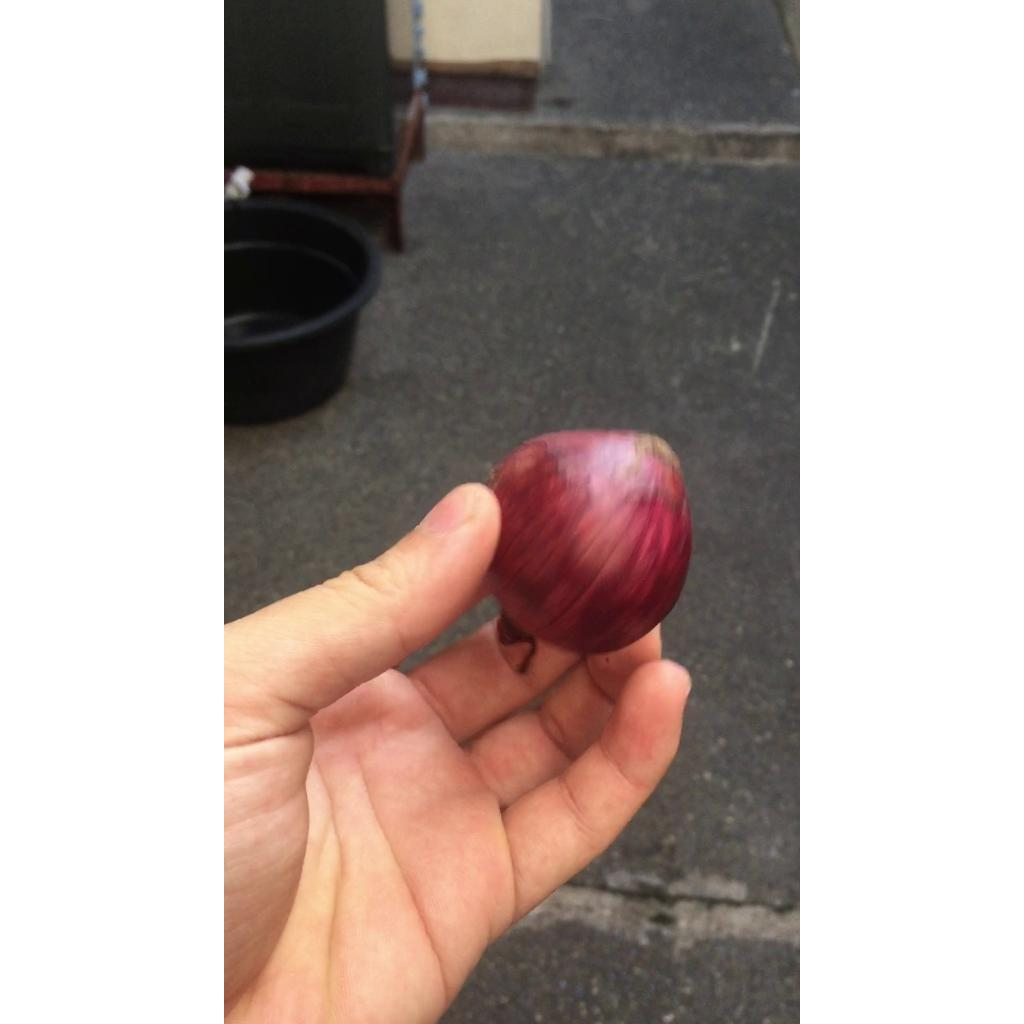Onion: (489, 430, 692, 654)
